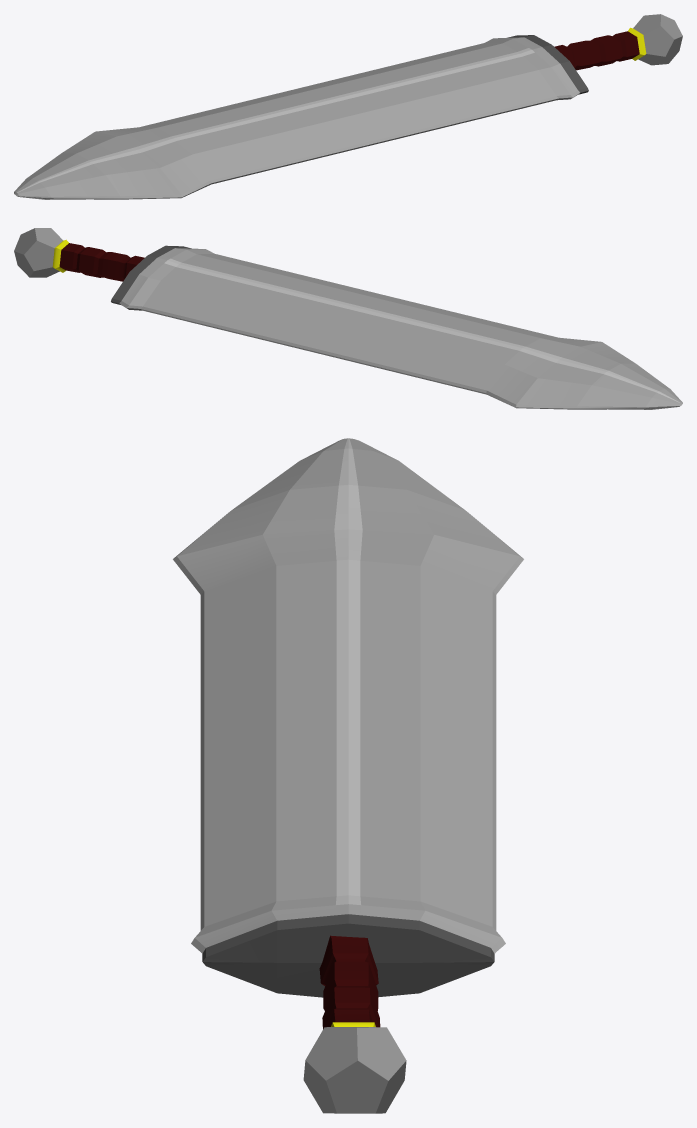
The model's file is HeroKnightSwordV01.fbx.
The picture shows the model from 3 angles, top to bottom: view 1: azimuth 30°, elevation 25°; view 2: azimuth 150°, elevation 25°; view 3: azimuth 270°, elevation 25°; orthographic projection. The views are drawn at different scales.
Parts seen in each view (by area): view 1: SwordBlade, SwordHandle; view 2: SwordBlade, SwordHandle; view 3: SwordBlade, SwordHandle.
Boxes of the visible parts, <box> form: SwordBlade: <box>14,35,588,199</box>; SwordHandle: <box>554,14,682,70</box>; SwordBlade: <box>111,245,682,409</box>; SwordHandle: <box>14,228,144,281</box>; SwordBlade: <box>173,438,523,997</box>; SwordHandle: <box>303,935,406,1113</box>.
Size of the model in its own units: 3.72 by 0.2579 by 0.8585.
